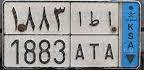1: (10, 7, 20, 64)
3: (53, 6, 66, 64)
8: (23, 6, 37, 65), (39, 6, 51, 65)
A: (75, 11, 85, 61), (104, 11, 114, 61)
T: (88, 11, 100, 60)
